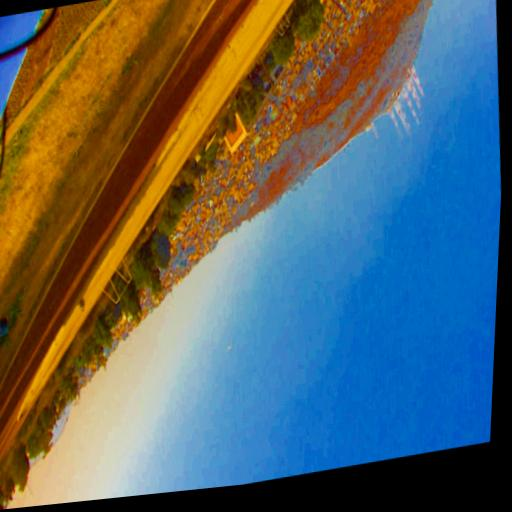drones: (226, 340, 234, 353)
